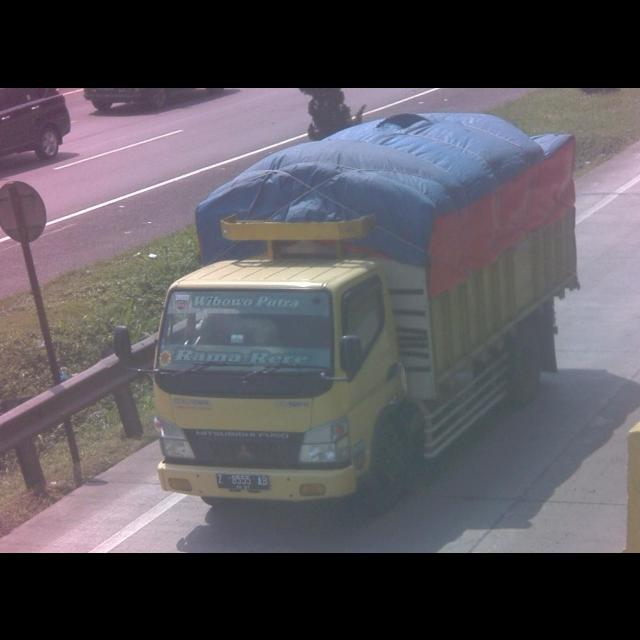plate: (214, 472, 270, 490)
